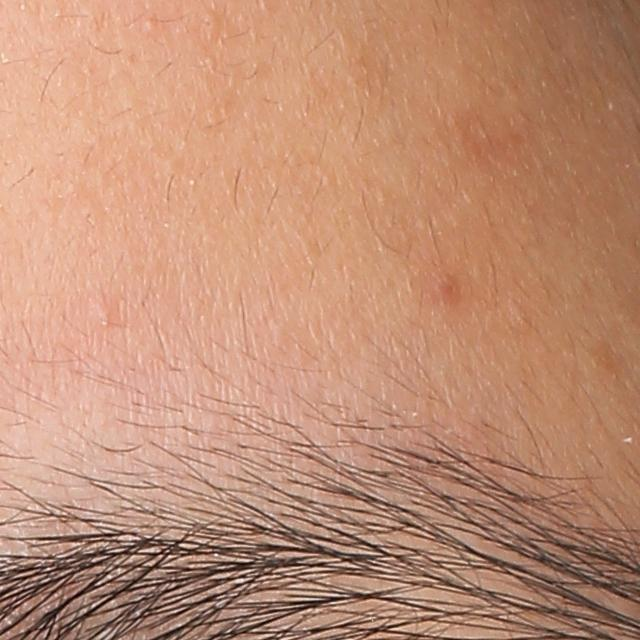comedo: (198, 10, 221, 44), (139, 9, 162, 36)
